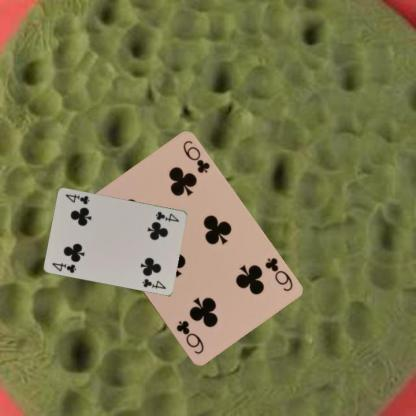4c: (153, 209, 180, 223), (50, 260, 77, 274)
6c: (262, 255, 294, 293)
